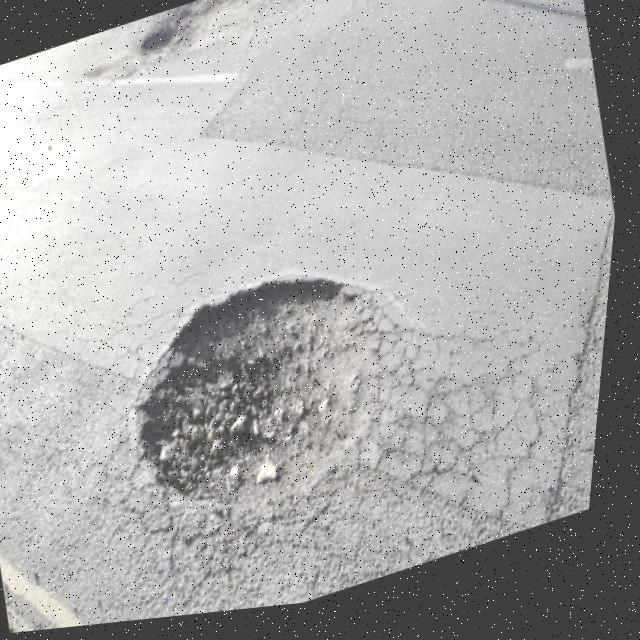Pothole: (102, 236, 455, 548), (134, 0, 297, 77)
